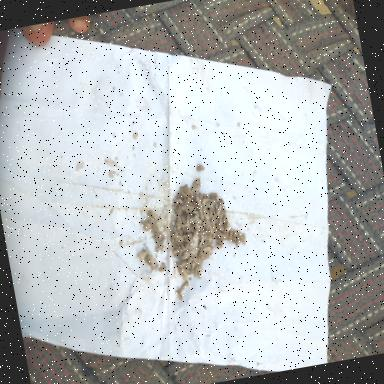pbw: (187, 204, 198, 215), (203, 206, 210, 220), (216, 197, 226, 206), (198, 237, 206, 248), (176, 290, 183, 302), (216, 205, 224, 215), (174, 194, 182, 204), (152, 210, 160, 220), (228, 228, 236, 238), (178, 260, 188, 268), (196, 266, 202, 278), (196, 196, 202, 208), (242, 233, 248, 245), (176, 287, 188, 293), (213, 244, 224, 250), (180, 204, 188, 212), (177, 234, 185, 242), (217, 212, 225, 220), (182, 280, 190, 288), (205, 220, 212, 229), (218, 222, 225, 231), (202, 246, 212, 252), (182, 272, 188, 282), (193, 266, 199, 276), (186, 186, 192, 196), (158, 237, 166, 244), (231, 232, 236, 243), (202, 220, 207, 230), (211, 216, 216, 226), (210, 192, 218, 198), (194, 228, 200, 236), (213, 210, 218, 219), (182, 191, 188, 198), (172, 249, 180, 254), (210, 224, 214, 234)
